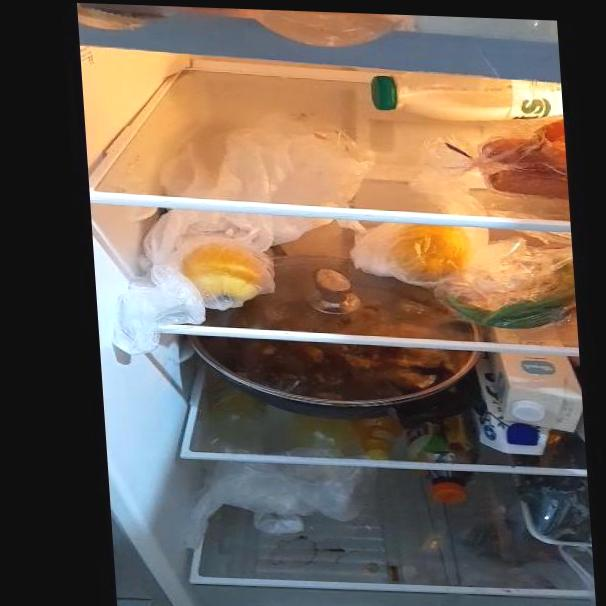broccoli: (517, 477, 590, 543)
carrot: (478, 135, 567, 196)
green chilies: (435, 285, 576, 331)
lemon: (183, 241, 269, 306), (395, 222, 472, 281)
milk: (476, 353, 583, 455)
